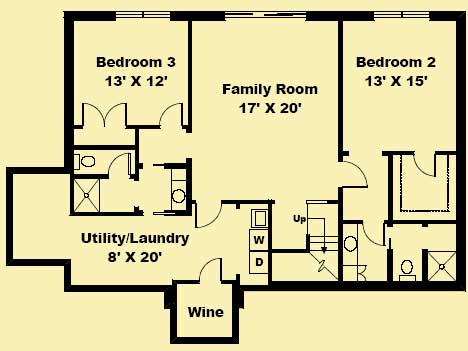door: (80, 99, 128, 129), (338, 160, 368, 190), (192, 200, 222, 229), (197, 256, 224, 286), (158, 102, 185, 129), (360, 221, 387, 247), (107, 152, 131, 181), (412, 151, 437, 178)
large_sink: (71, 153, 98, 170), (398, 260, 418, 281)
small_sink: (342, 223, 358, 268), (167, 178, 187, 213)
stairs: (305, 198, 339, 283)
window: (220, 10, 308, 21), (111, 9, 171, 21), (370, 12, 432, 23)
